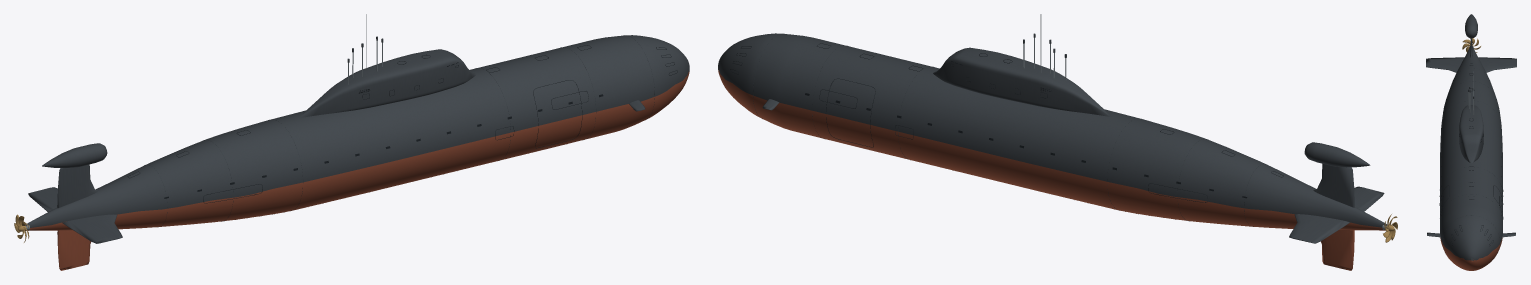
The model's file is RU_SSN_Akula_LOD3.fbx.
3 renders of one model, left to right at view 1: azimuth 30°, elevation 25°; view 2: azimuth 150°, elevation 25°; view 3: azimuth 270°, elevation 25°, orthographic. The views are drawn at different scales.
Visible parts, largest first — view 1: RU_SSN_Akula_LOD3; view 2: RU_SSN_Akula_LOD3; view 3: RU_SSN_Akula_LOD3.
Boxes of the visible parts, x1,y1,x2,y2 form: RU_SSN_Akula_LOD3: (14,14,689,270); RU_SSN_Akula_LOD3: (718,14,1397,270); RU_SSN_Akula_LOD3: (1426,14,1516,270).
Bounding box in the file's own units: 110 × 19.6 × 28.44.
